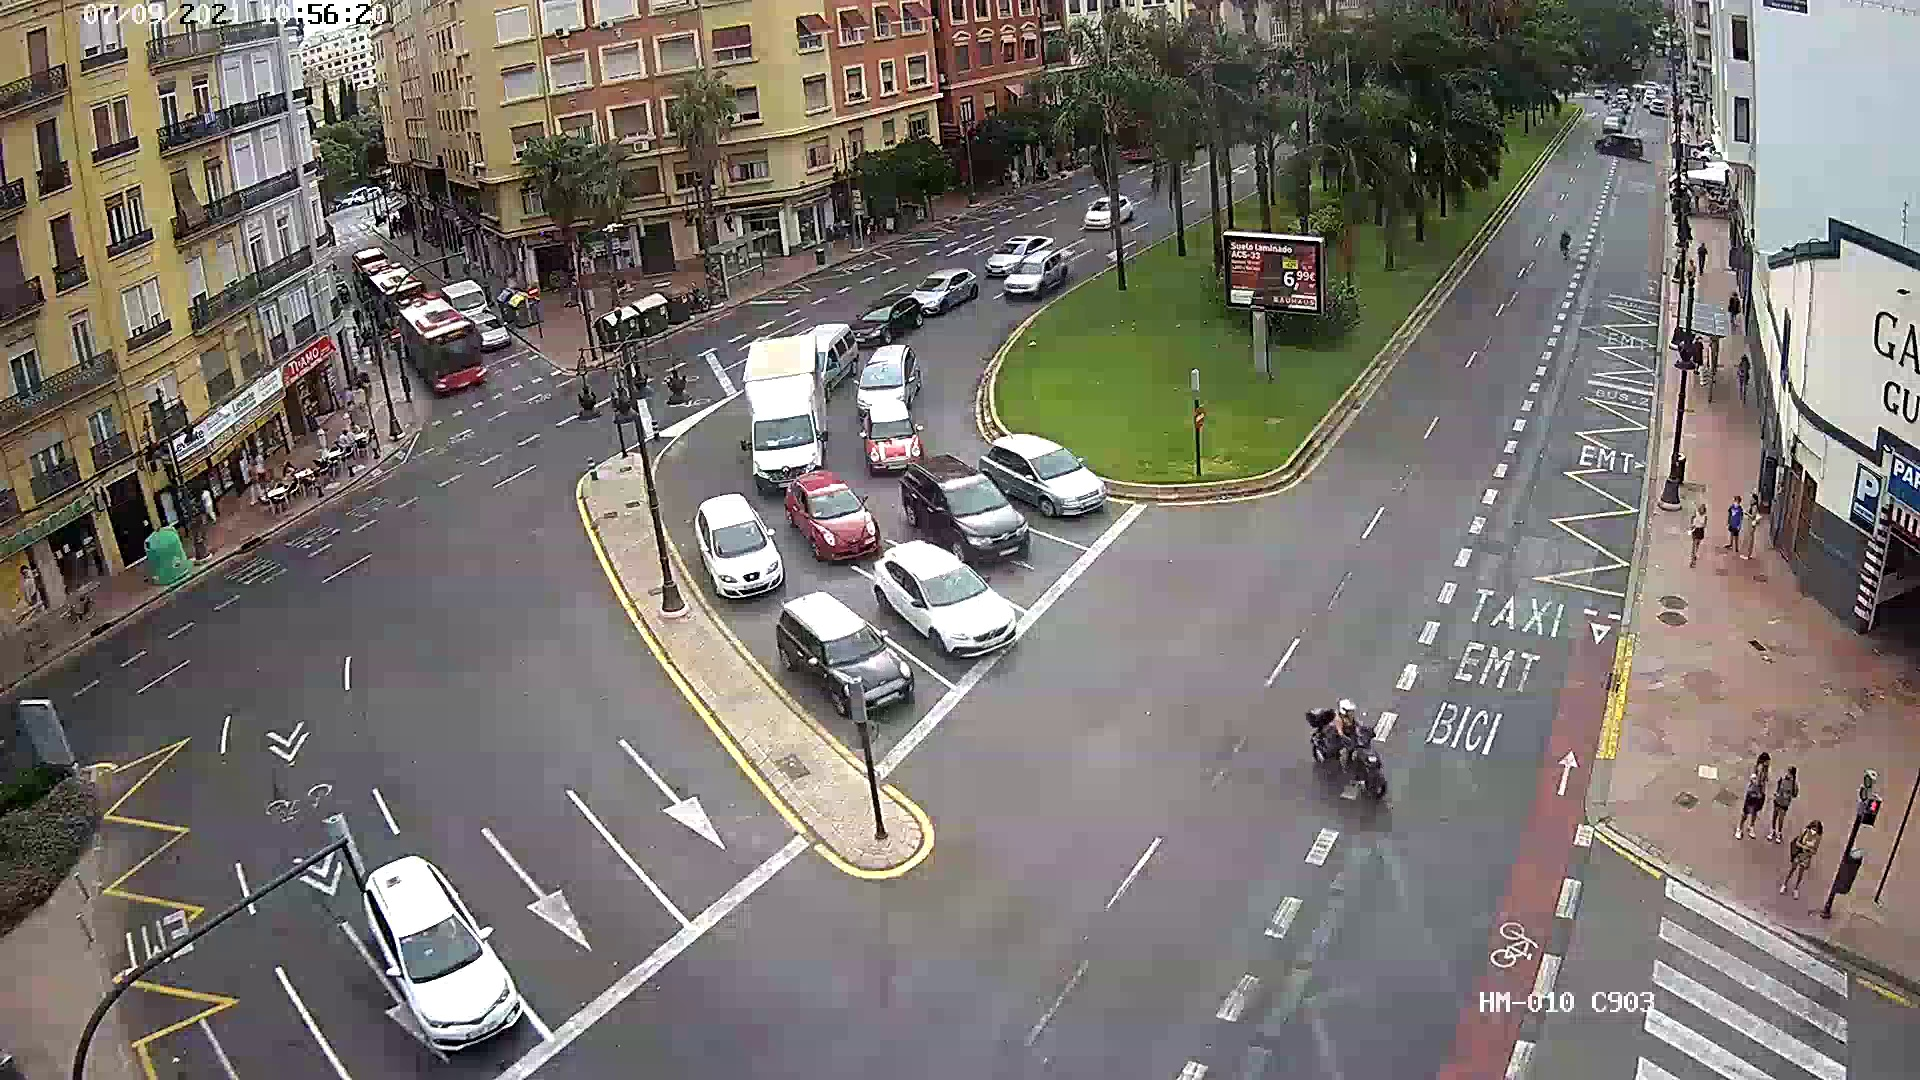Cars: (326, 880, 546, 1043), (762, 601, 942, 737), (855, 541, 1036, 659), (880, 462, 1047, 558), (957, 419, 1118, 516), (684, 491, 793, 593), (862, 342, 943, 419), (851, 411, 947, 469), (1004, 240, 1071, 299), (462, 314, 524, 351)
